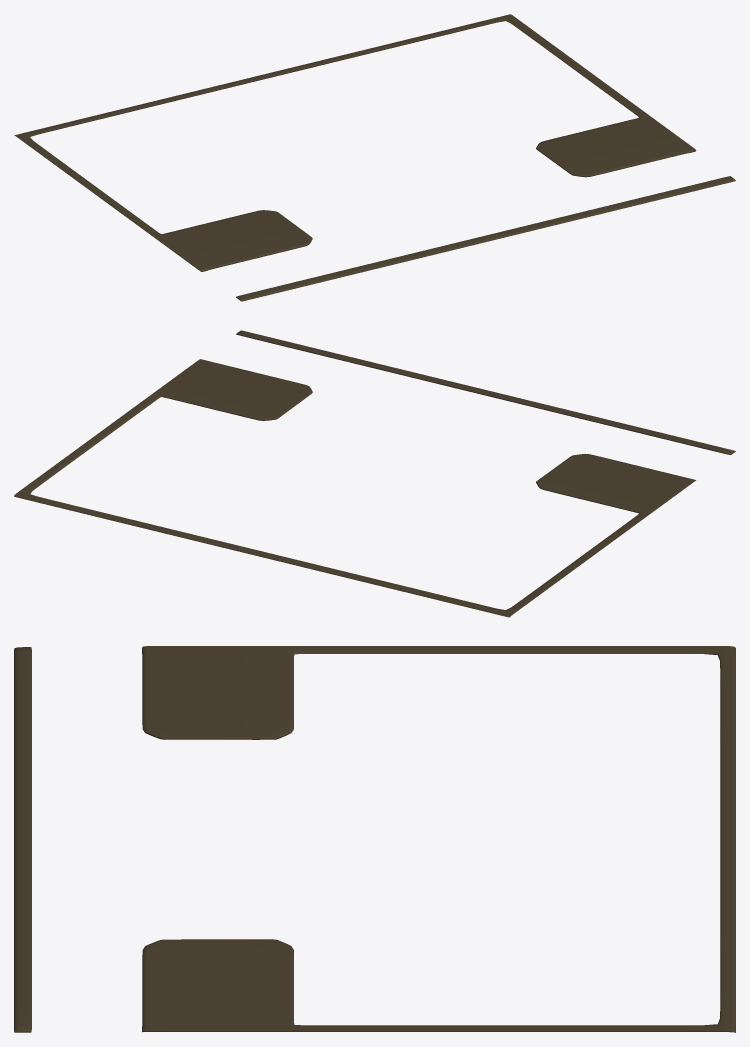
File: Calcada.fbx
3 views of the same model, one above another, from view 1: azimuth 30°, elevation 25°; view 2: azimuth 150°, elevation 25°; view 3: azimuth 270°, elevation 25° (orthographic). The views are drawn at different scales.
Visible parts, largest first — view 1: Calçada.001; view 2: Calçada.001; view 3: Calçada.001.
Boxes of the visible parts, bbox=[...] form: Calçada.001: bbox=[14, 14, 735, 301]; Calçada.001: bbox=[14, 330, 735, 617]; Calçada.001: bbox=[14, 646, 735, 1032].
Bounding box in the file's own units: 34005 × 97.39 × 26928.
